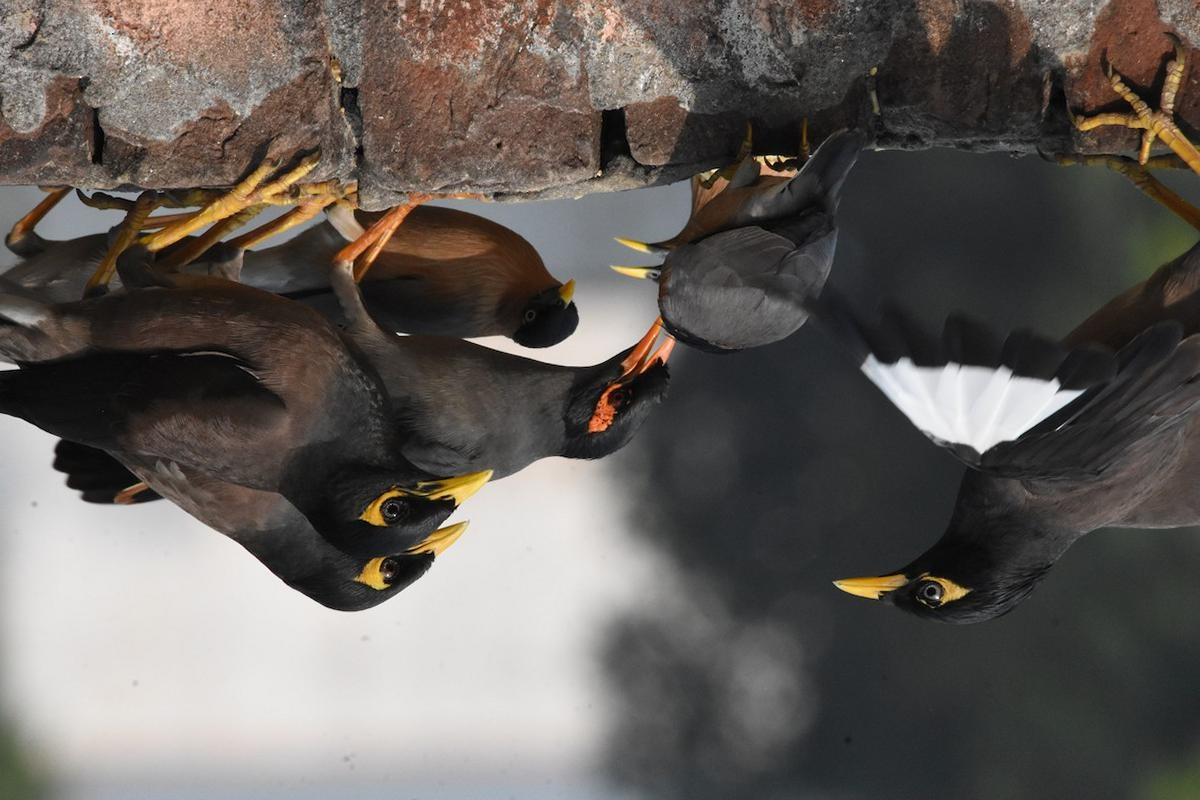myna: (800, 297, 1200, 638), (64, 256, 488, 537)
